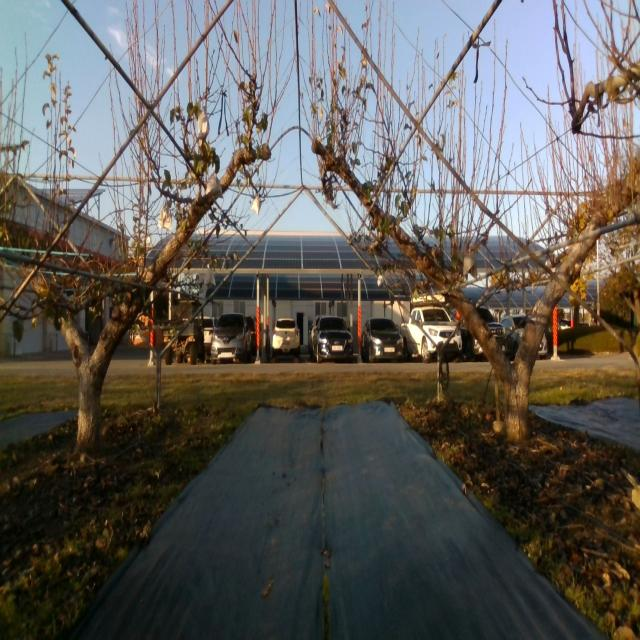pearbags: (206, 173, 223, 199), (158, 204, 172, 233), (197, 110, 209, 140), (464, 256, 478, 281), (204, 268, 216, 286)
